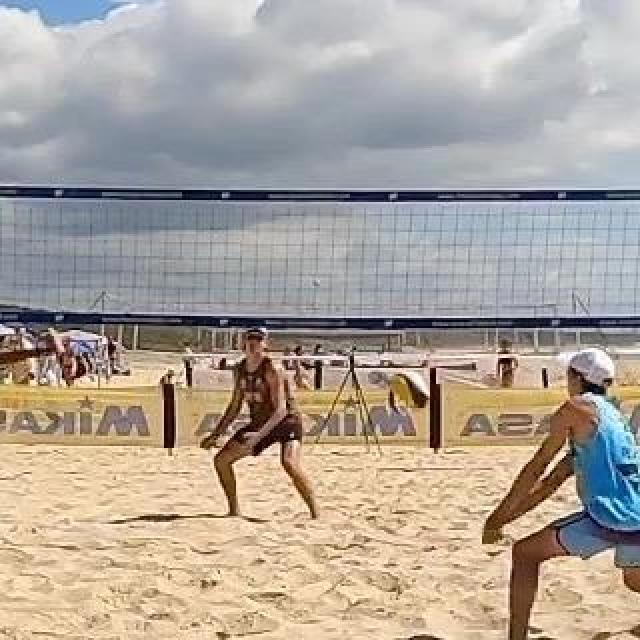volleyball: (387, 371, 429, 415)
